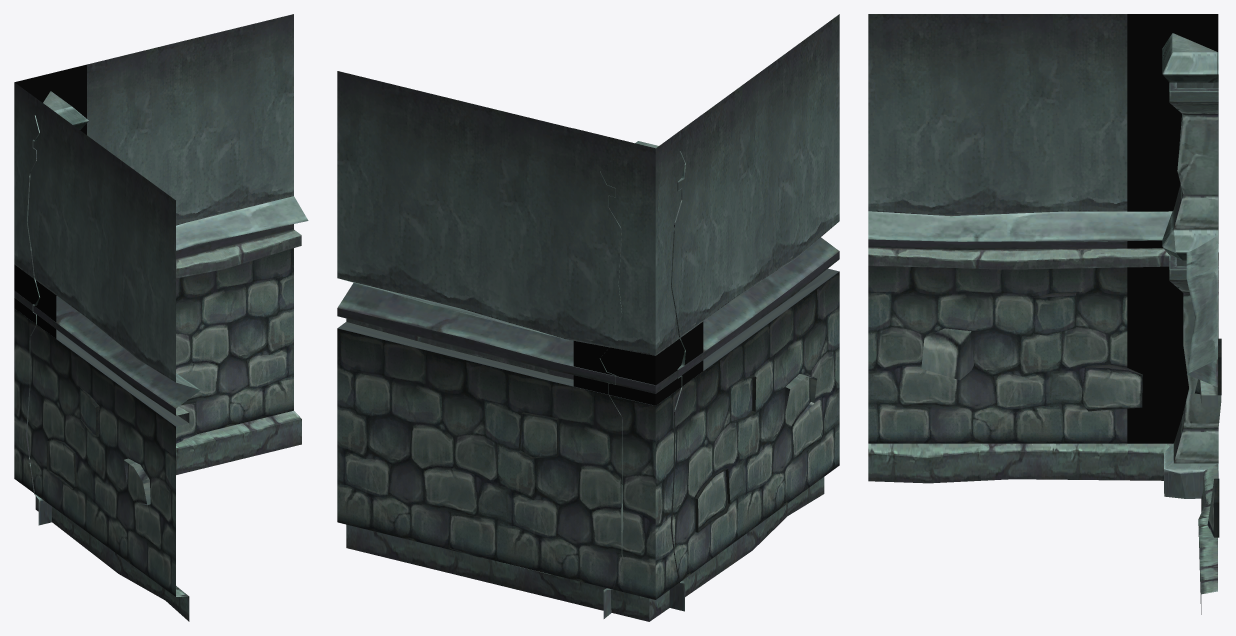
File: crypt_wall_concave_01.fbx
3 views of the same model, side by side, from view 1: azimuth 30°, elevation 25°; view 2: azimuth 150°, elevation 25°; view 3: azimuth 270°, elevation 25° (orthographic). The views are drawn at different scales.
Visible parts, largest first — view 1: crypt_wall_concave_01-0; view 2: crypt_wall_concave_01-0; view 3: crypt_wall_concave_01-0.
Boxes of the visible parts, x1,y1,x2,y2 form: crypt_wall_concave_01-0: [14, 14, 308, 621]; crypt_wall_concave_01-0: [337, 14, 839, 621]; crypt_wall_concave_01-0: [868, 14, 1221, 614].
Size of the model in its own units: 3.88 by 5.5 by 3.83.
